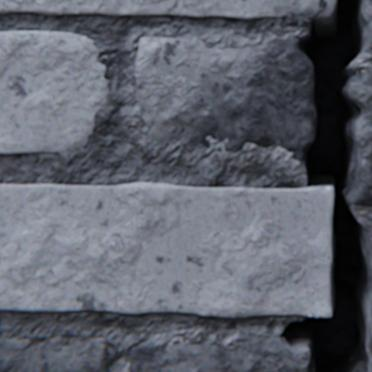brick: (0, 182, 334, 316), (0, 31, 109, 154), (0, 0, 319, 19), (0, 336, 109, 371), (319, 0, 333, 14)
broken_brick: (137, 37, 316, 160), (131, 335, 310, 371), (343, 72, 371, 205)
crack: (281, 0, 371, 371)
